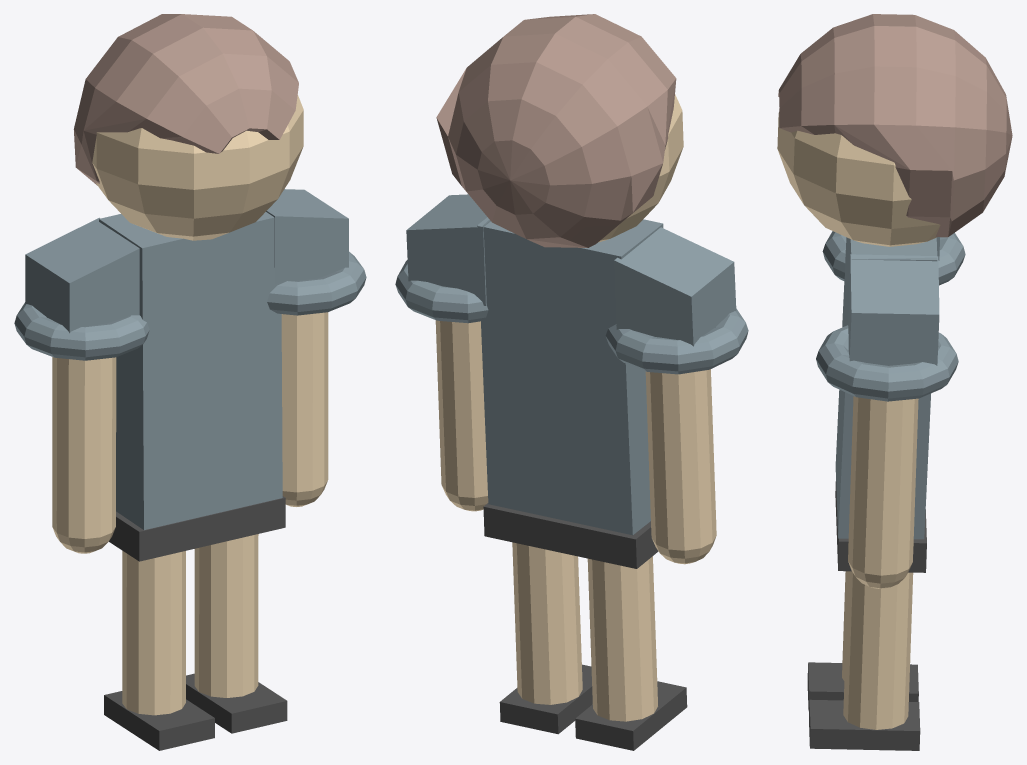
File: sange.glb
3 views of the same model, side by side, from view 1: azimuth 30°, elevation 25°; view 2: azimuth 150°, elevation 25°; view 3: azimuth 270°, elevation 25° (orthographic). The views are drawn at different scales.
Parts seen in each view (by area): view 1: group1076861550, group1474751897, group368323967, group969680539, group489187450, group139279400, group1008406382, group1184357065, group2048861095, group155570946, group890284485, group749122787 (+6 smaller); view 2: group1076861550, group1474751897, group969680539, group1008406382, group489187450, group139279400, group1184357065, group2048861095, group155570946, group890284485, group749122787, group259664846 (+6 smaller); view 3: group1474751897, group368323967, group1184357065, group2048861095, group139279400, group1076861550, group259664846, group1274663479, group155570946, group749122787, group1851219646, group890284485.
Boxes of the visible parts, x1,y1,x2,y2 form: group1076861550: (99,208,282,530); group1474751897: (73,14,298,185); group368323967: (92,95,303,240); group969680539: (52,357,116,529); group489187450: (122,551,185,715); group139279400: (194,534,258,697); group1008406382: (25,217,139,333); group1184357065: (281,312,328,483); group2048861095: (266,189,348,283); group155570946: (14,302,149,360); group890284485: (113,496,285,551); group749122787: (104,691,214,750); group1076861550: (477,217,663,535); group1474751897: (436,14,676,247); group969680539: (645,369,716,541); group1008406382: (614,227,736,346); group489187450: (587,556,657,721); group139279400: (512,542,582,704); group1184357065: (435,320,487,488); group2048861095: (406,194,490,305); group155570946: (605,308,748,374); group890284485: (483,503,654,559); group749122787: (575,681,687,750); group259664846: (395,260,488,323); group1474751897: (778,14,1012,237); group368323967: (777,112,940,246); group1184357065: (848,396,918,566); group2048861095: (848,254,939,365); group139279400: (843,571,913,729); group1076861550: (835,237,937,539); group259664846: (816,325,958,401); group1274663479: (809,699,920,750); group155570946: (822,231,965,285); group749122787: (807,662,918,710); group1851219646: (848,552,913,588); group890284485: (835,481,926,562).
Size of the model in its own units: 35.36 by 70.2 by 21.38.
